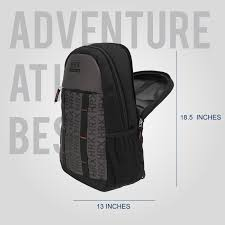backpack: (54, 41, 173, 192)
